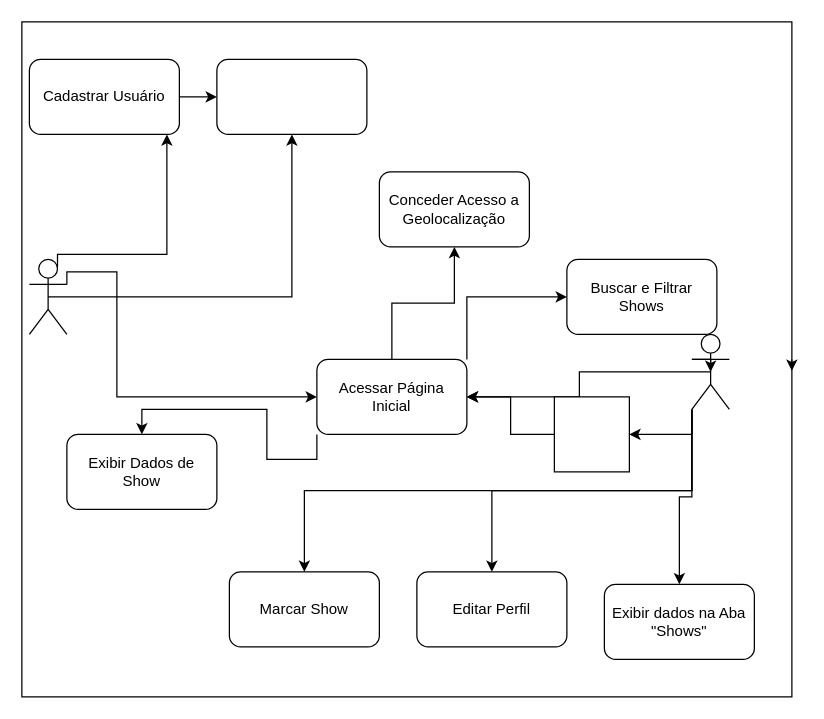
Some shapes in this 824 by 719 pixel diagram are drawn without their labels. The centre of each missing label's shape, as x and y in pixels:
"Artista" belongs at pixel 710 371.
"Autenticar Usuário" belongs at pixel 291 96.
"LOGOUT" belongs at pixel 591 434.
"Público" belongs at pixel 47 296.
